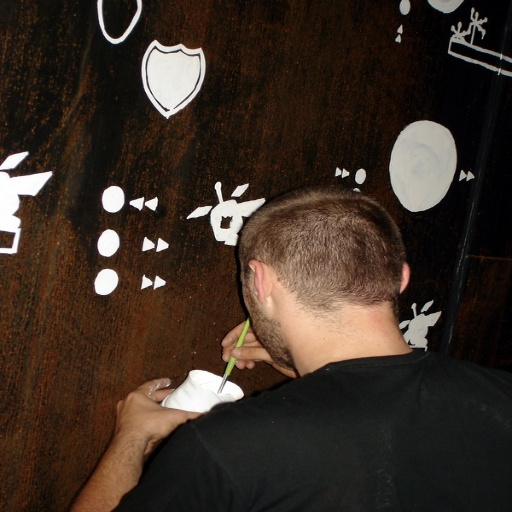hand: (85, 369, 200, 489), (218, 317, 296, 376)
